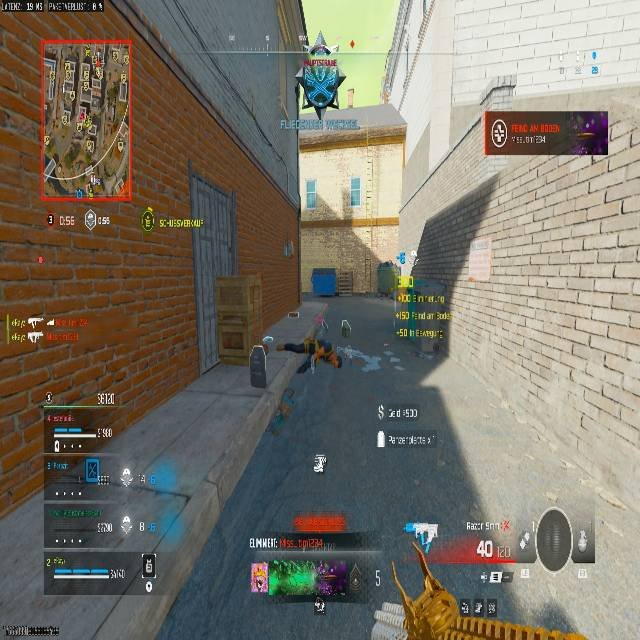player: (299, 33, 345, 118)
